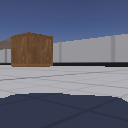obstacle: (11, 32, 53, 66)
